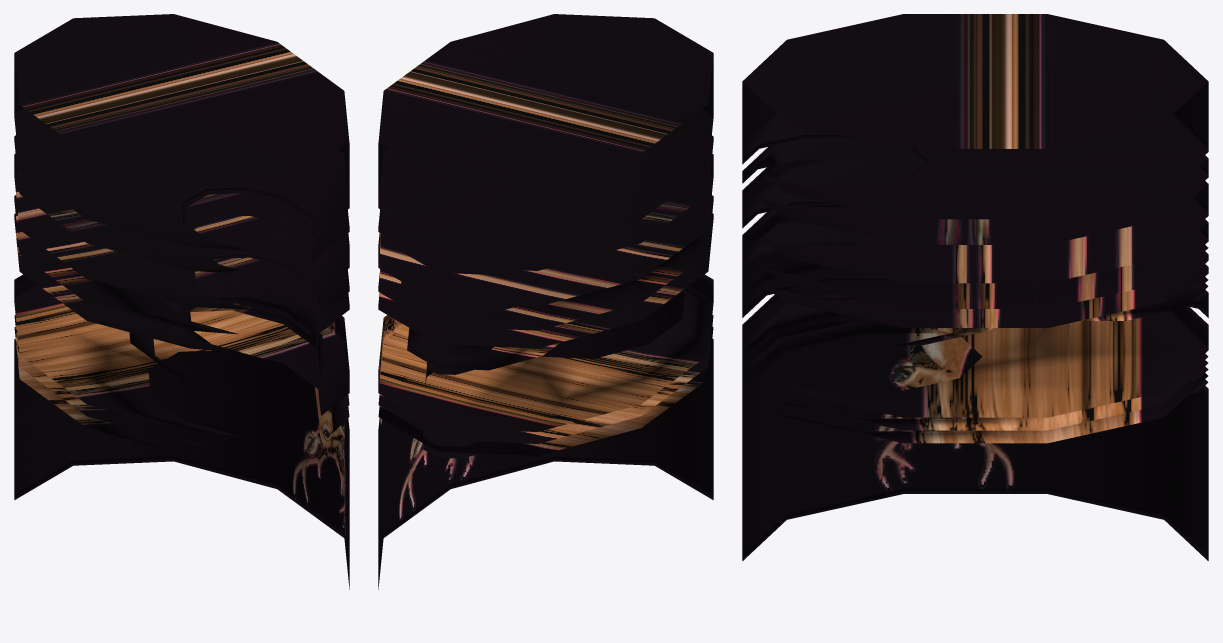
The model's file is deer.glb.
3 renders of one model, left to right at view 1: azimuth 30°, elevation 25°; view 2: azimuth 150°, elevation 25°; view 3: azimuth 270°, elevation 25°, orthographic. The views are drawn at different scales.
Parts seen in each view (by area): view 1: solid; view 2: solid; view 3: solid.
Boxes of the visible parts, left/top/right/bottom form: solid: left=14, top=14, right=349, bottom=589; solid: left=378, top=14, right=713, bottom=589; solid: left=742, top=14, right=1208, bottom=560.
Size of the model in its own units: 0.6026 by 1 by 0.88.
1 material, 1 textured.
